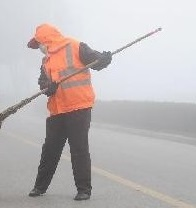person: (27, 25, 110, 199)
